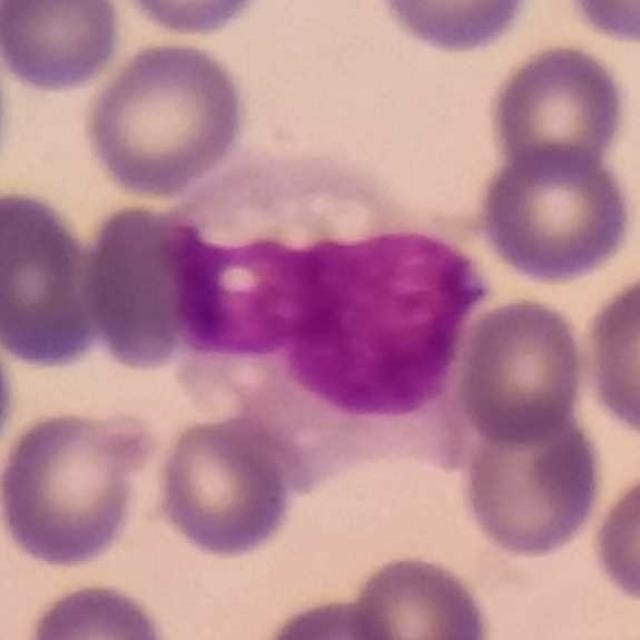mono: (139, 132, 495, 505)
